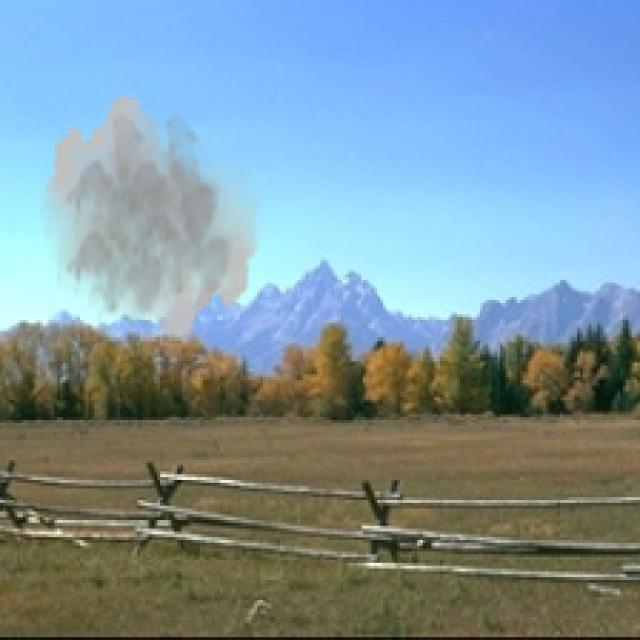smoke: (40, 91, 263, 343)
